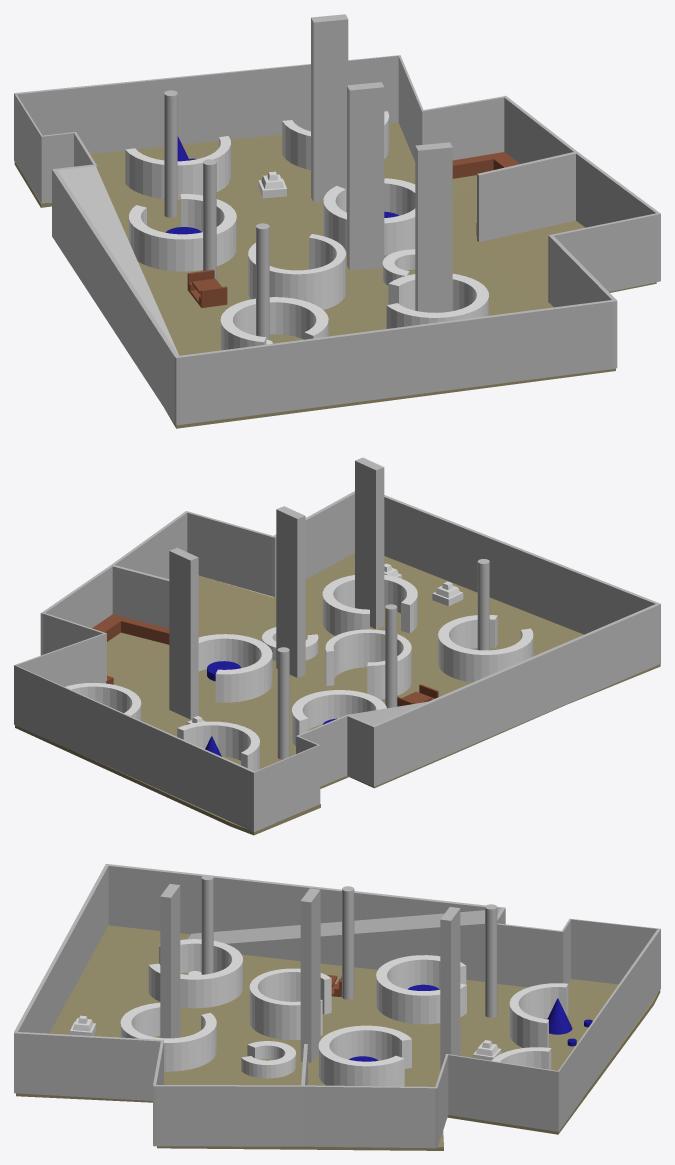
The model's file is OBA_Model.fbx.
The picture shows the model from 3 angles, top to bottom: view 1: azimuth 30°, elevation 25°; view 2: azimuth 150°, elevation 25°; view 3: azimuth 270°, elevation 25°; orthographic projection. The views are drawn at different scales.
Visible parts, largest first — view 1: Cube, Plane, Cube.004, Cube.003, Cube.005, Cylinder.002, Cylinder.011, Cylinder.001, Cylinder, Cylinder.005, Cylinder.008, Cylinder.014 (+7 smaller); view 2: Cube, Plane, Cube.003, Cube.005, Cube.004, Cylinder.001, Cylinder, Cylinder.011, Cylinder.008, Cylinder.002, Cylinder.005, Cylinder.014 (+5 smaller); view 3: Cube, Plane, Cylinder, Cylinder.002, Cylinder.001, Cylinder.011, Cube.004, Cylinder.008, Cube.005, Cube.003, Cylinder.005, Cylinder.012 (+5 smaller).
Boxes of the visible parts, box(x1,y1,x2,y2) form: Cube: box(14, 55, 660, 425); Plane: box(14, 122, 656, 428); Cube.004: box(347, 82, 384, 270); Cube.003: box(311, 14, 348, 202); Cube.005: box(415, 142, 452, 312); Cylinder.002: box(128, 194, 236, 271); Cylinder.011: box(248, 234, 345, 309); Cylinder.001: box(220, 297, 328, 350); Cylinder: box(323, 178, 415, 255); Cylinder.005: box(125, 136, 230, 199); Cylinder.008: box(386, 273, 488, 328); Cylinder.014: box(164, 90, 177, 217); Cube: box(14, 491, 660, 832); Plane: box(15, 552, 660, 835); Cube.003: box(169, 547, 198, 719); Cube.005: box(355, 457, 384, 629); Cube.004: box(276, 506, 305, 677); Cylinder.001: box(438, 615, 533, 682); Cylinder: box(198, 634, 272, 702); Cylinder.011: box(325, 629, 411, 699); Cylinder.008: box(322, 574, 417, 635); Cylinder.002: box(292, 690, 386, 745); Cylinder.005: box(177, 721, 259, 771); Cylinder.014: box(277, 647, 289, 759); Cube: box(14, 864, 660, 1148); Plane: box(16, 925, 660, 1150); Cylinder: box(318, 1025, 411, 1086); Cylinder.002: box(376, 955, 466, 1024); Cylinder.001: box(148, 939, 242, 1008); Cylinder.011: box(249, 968, 331, 1039); Cube.004: box(300, 888, 320, 1062); Cylinder.008: box(120, 1002, 216, 1071); Cube.005: box(160, 884, 180, 1038); Cube.003: box(440, 907, 460, 1070); Cylinder.005: box(509, 983, 568, 1047); Cylinder.012: box(241, 1041, 295, 1078).
Size of the model in its own units: 3159 by 1083 by 3849.
